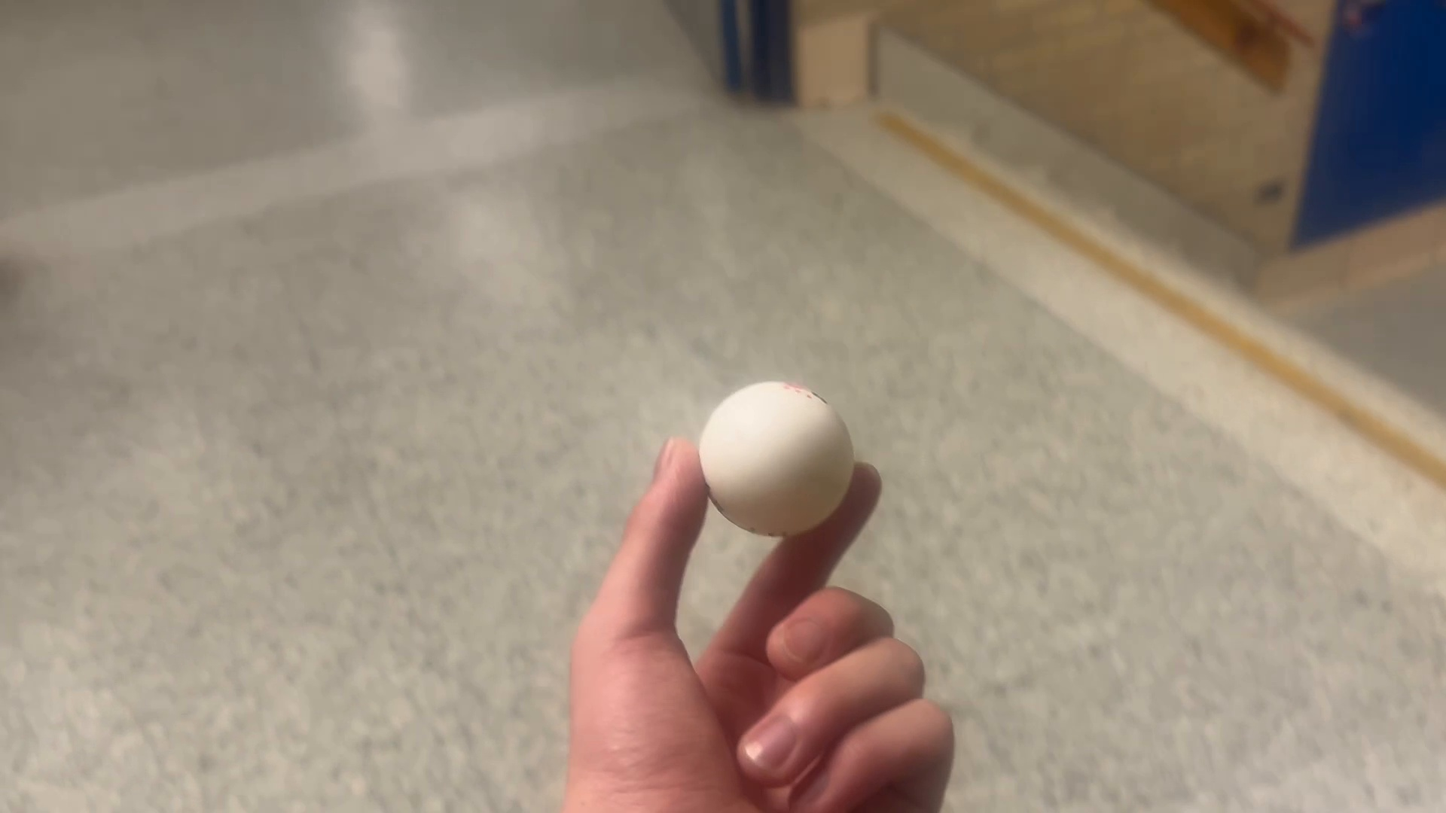Ball: (690, 368, 864, 534)
